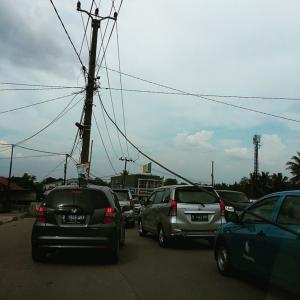Vehicle-registration-plate: (62, 212, 86, 225), (192, 215, 210, 223), (227, 204, 235, 214)
